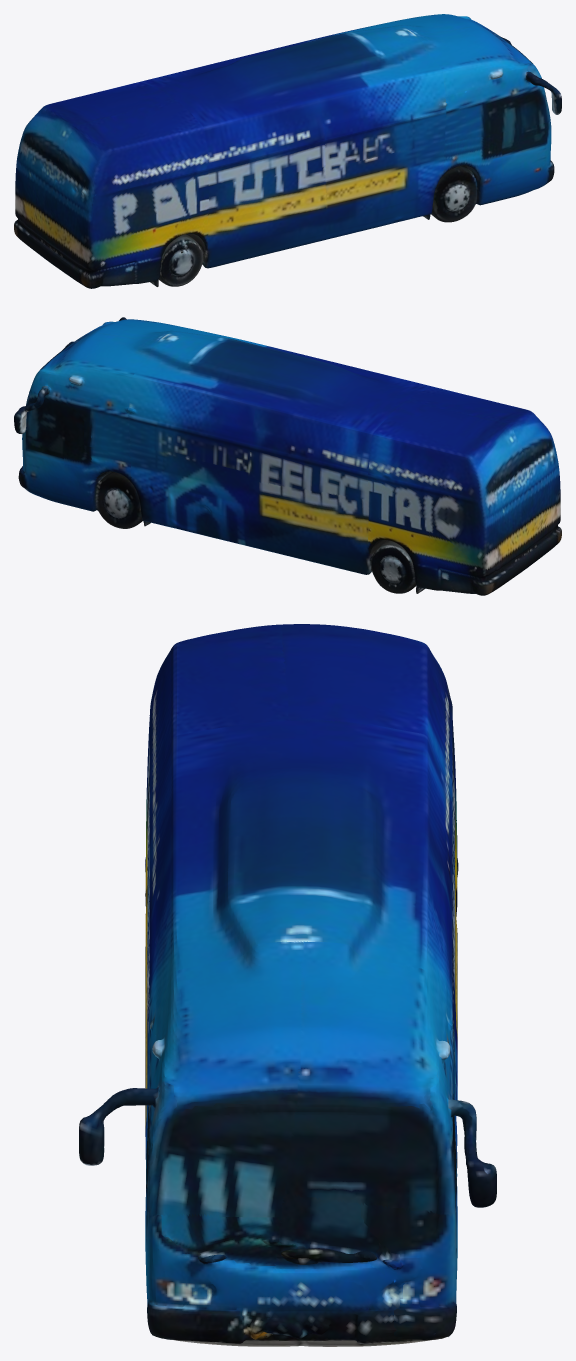
File: Proterra_ZX5.glb
3 views of the same model, one above another, from view 1: azimuth 30°, elevation 25°; view 2: azimuth 150°, elevation 25°; view 3: azimuth 270°, elevation 25° (orthographic). The views are drawn at different scales.
Parts seen in each view (by area): view 1: tripo_node_ce5c599d-a0c0-498e-8693-747b979a8812; view 2: tripo_node_ce5c599d-a0c0-498e-8693-747b979a8812; view 3: tripo_node_ce5c599d-a0c0-498e-8693-747b979a8812.
Part boxes in pixels (x1=…): tripo_node_ce5c599d-a0c0-498e-8693-747b979a8812: x1=14, y1=14, x2=561, y2=288; tripo_node_ce5c599d-a0c0-498e-8693-747b979a8812: x1=14, y1=317, x2=561, y2=595; tripo_node_ce5c599d-a0c0-498e-8693-747b979a8812: x1=79, y1=624, x2=496, y2=1346.
Bounding box in the file's own units: 1 × 0.3406 × 0.3783.
1 material, 1 textured.
